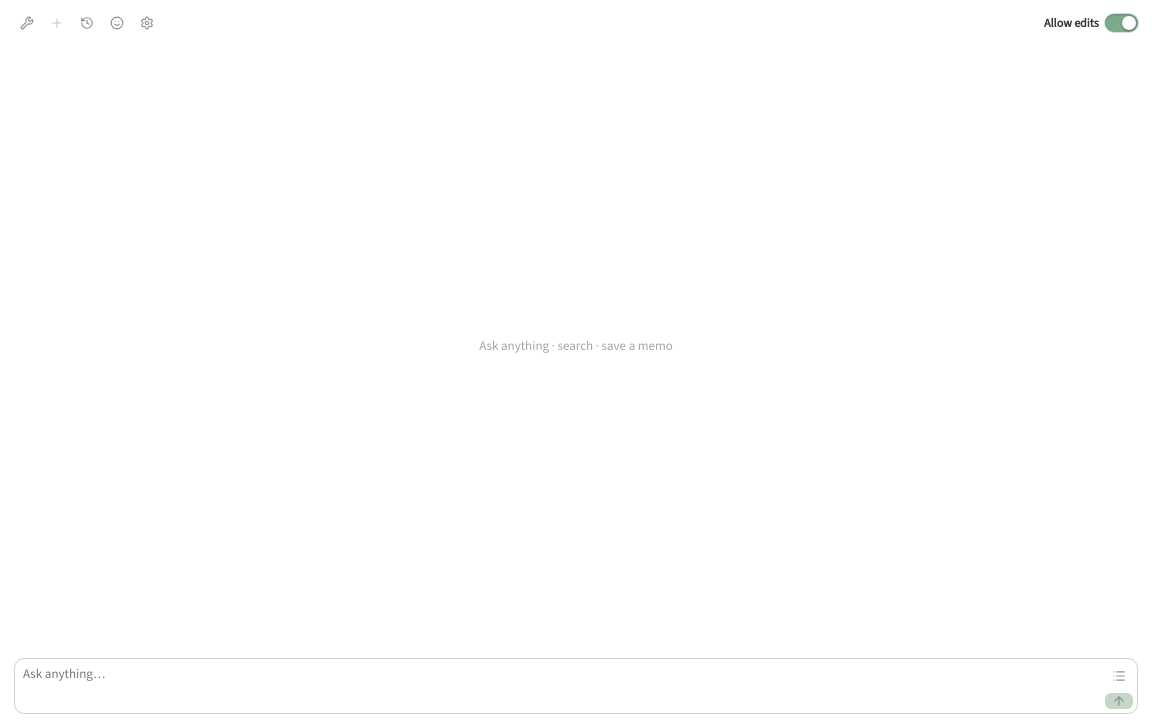
Test: SidebarChat › sends via pet_chat and renders search tool card
This screenshot has width=1152, height=720.
Type "find alpha" into the text box with placeholder "Ask anything…" at (560, 686), box [15, 659, 1105, 713]
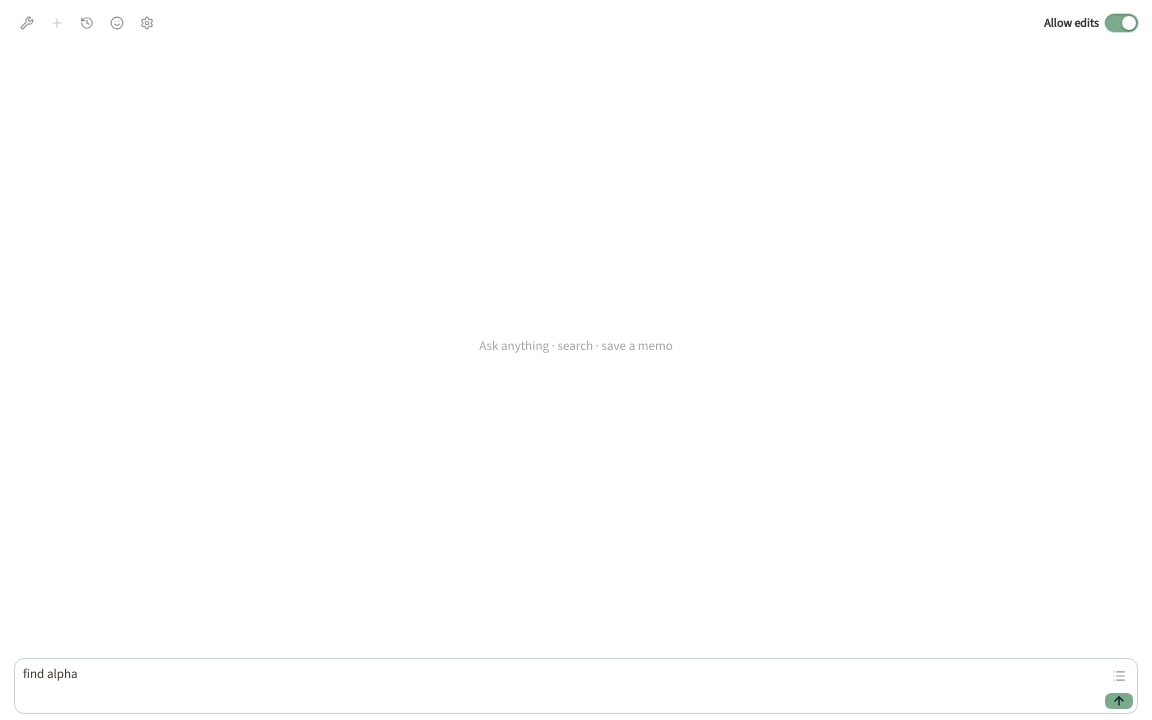
Press Enter in the text box with placeholder "Ask anything…", box [15, 659, 1105, 713]
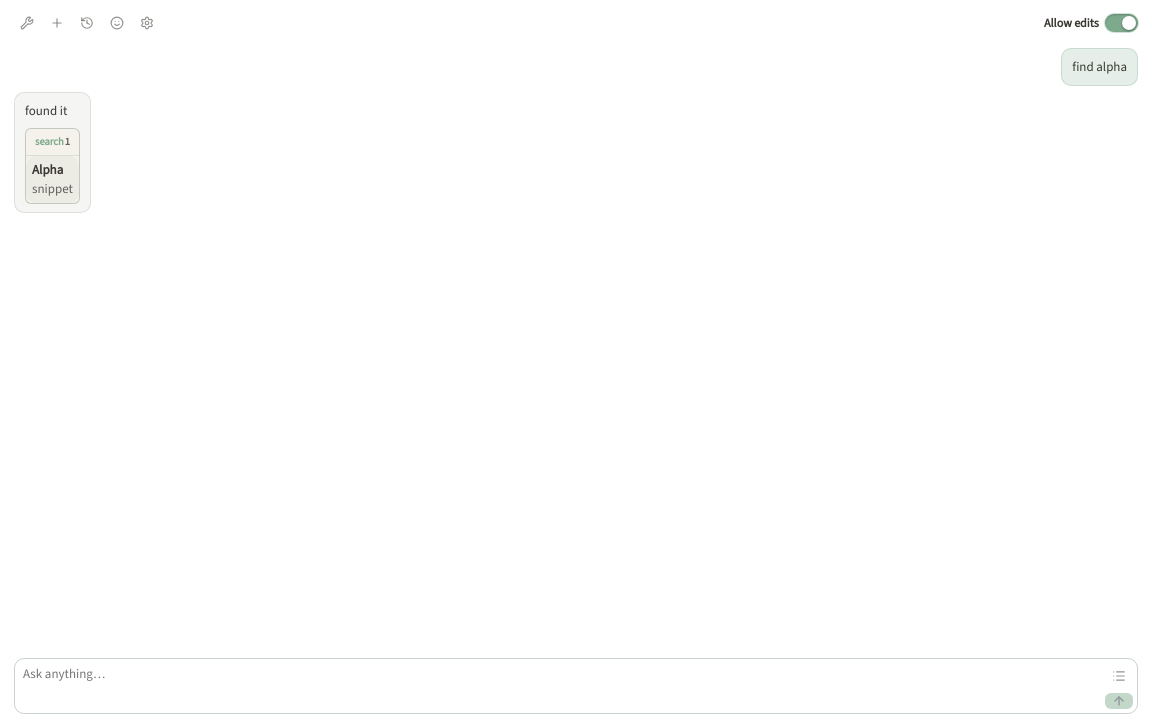
Expected: the element with test id "chat-search-tool-card" is shown, [25, 128, 80, 204]
Expected: the text "Alpha" is shown, [32, 161, 63, 178]
